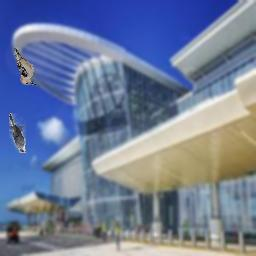Cuckoo: (9, 113, 26, 153)
Woodpecker: (13, 47, 37, 87)
